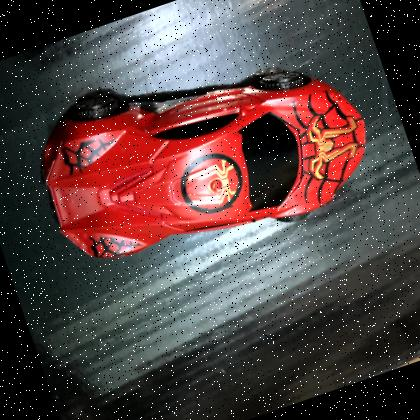Car: (39, 70, 366, 257)
